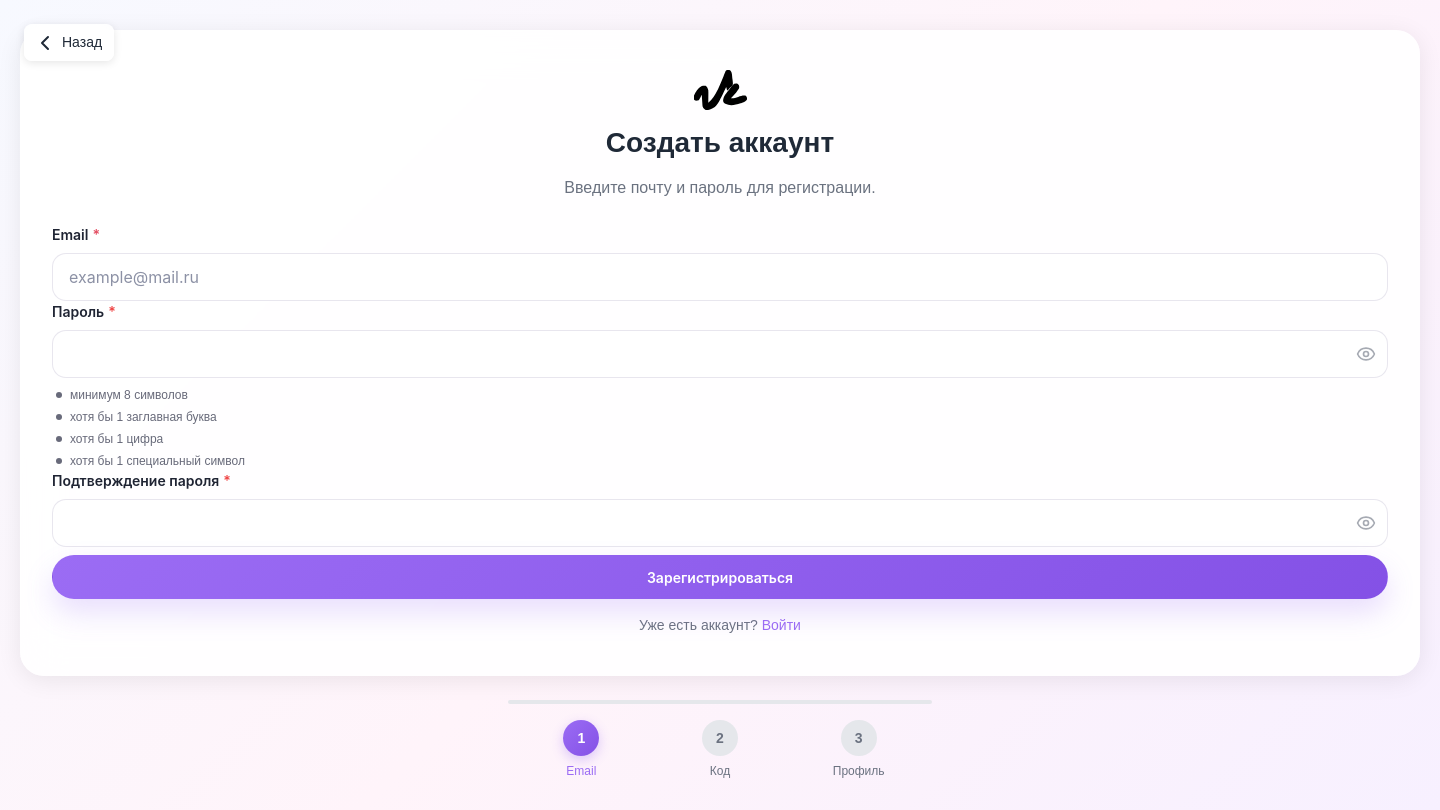
Scenario: RegistrationForm › shows friendly duplicate email error from backend
Type "user@example.com" into the field with placeholder "example@mail.ru" at (720, 277), box [52,253,1388,301]
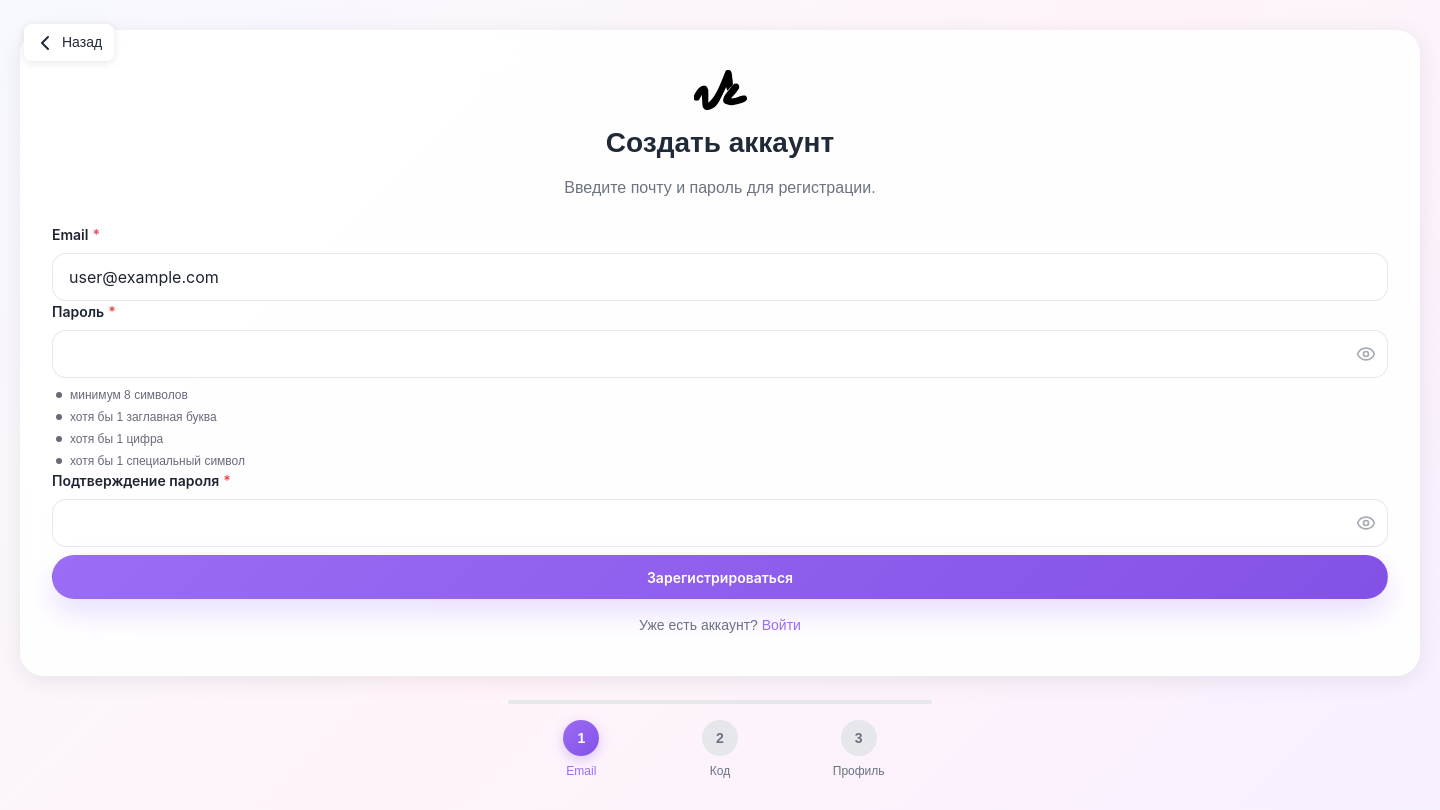
Type "StrongPass1!" into the 1st password field at (720, 354), box [52,330,1388,378]
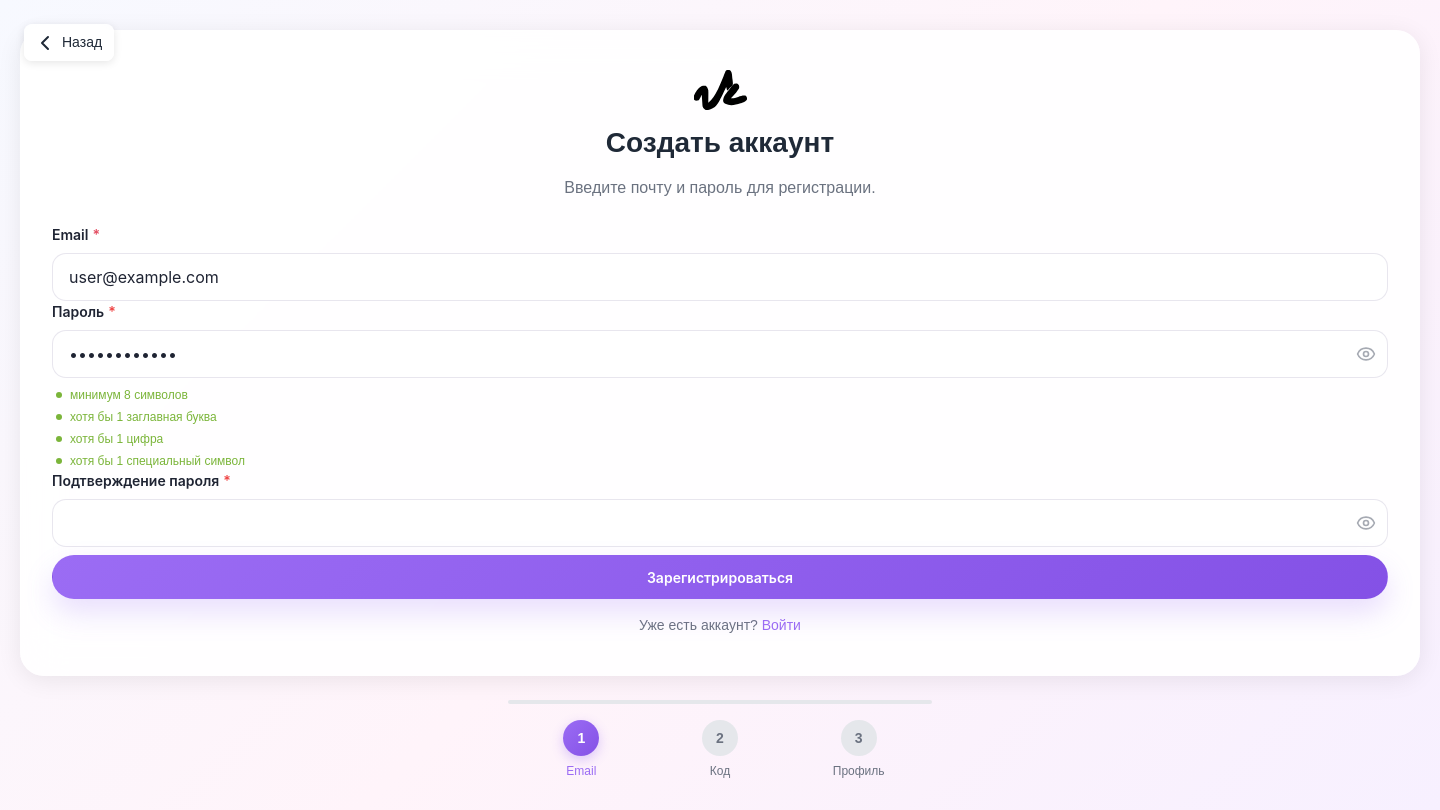
Type "StrongPass1!" into the password field below "Подтверждение пароля" at (720, 523), box [52,499,1388,547]
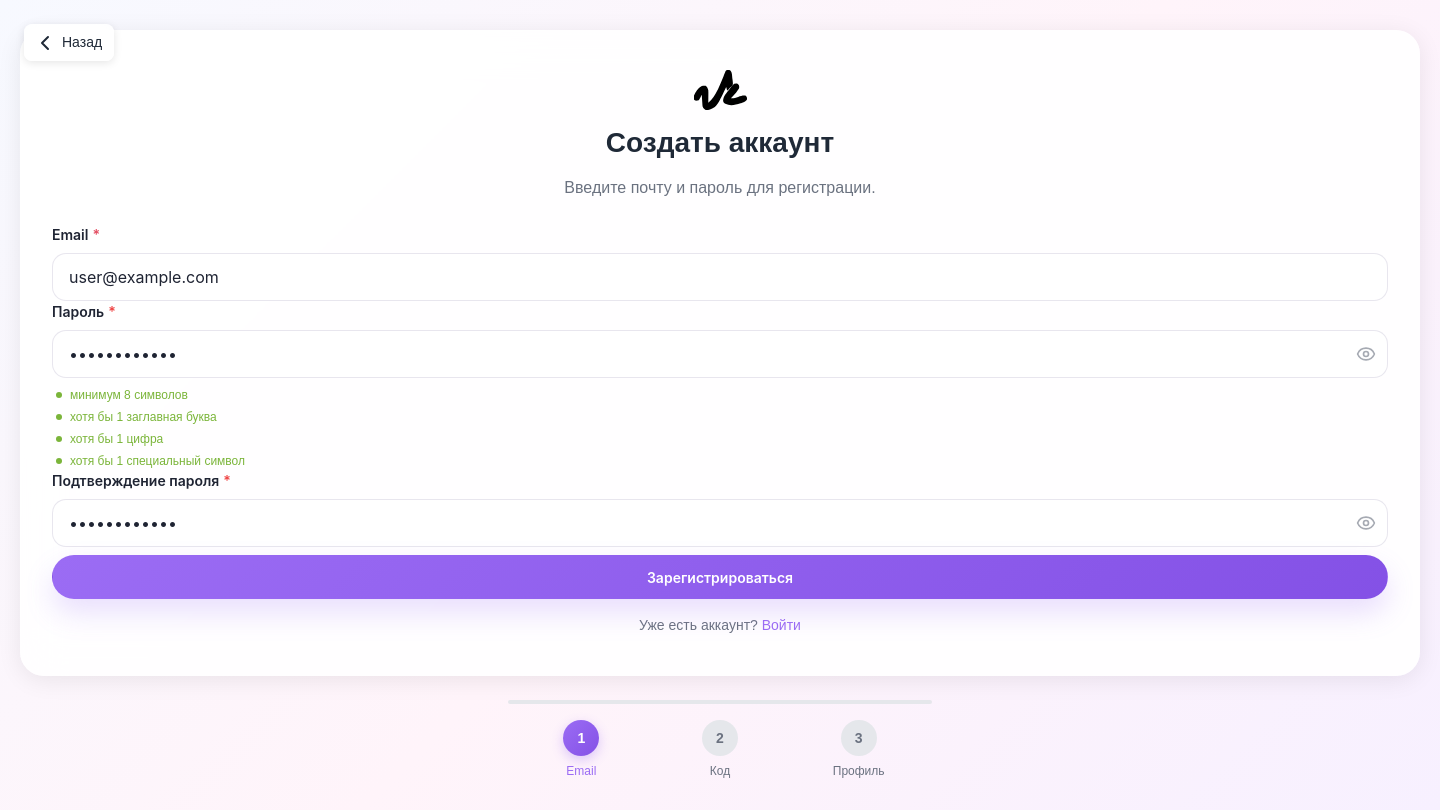
Click the button "Зарегистрироваться" at (720, 577), box [52,555,1388,599]
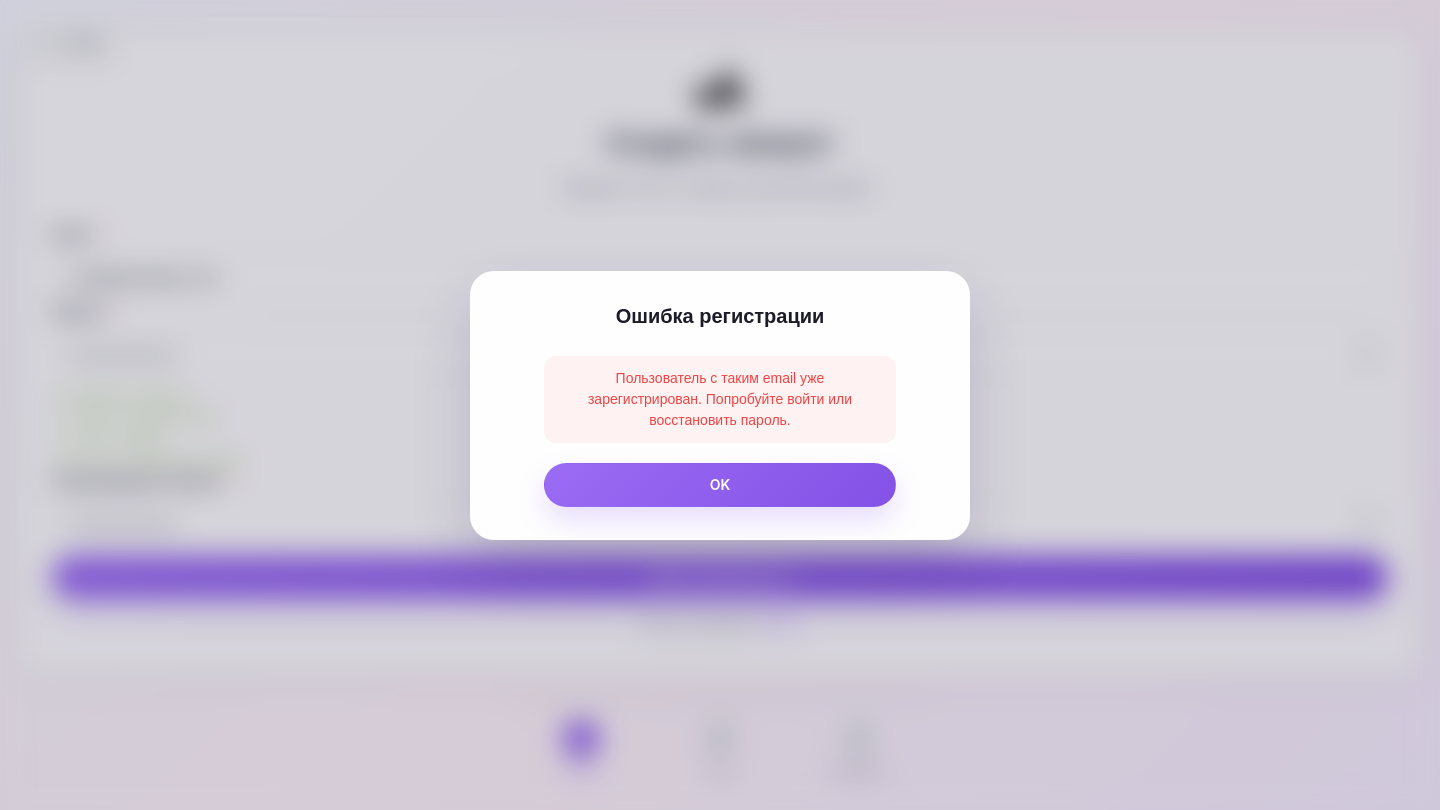
Now the heading "Ошибка регистрации" is shown, box [616,304,824,326]
Now the text "Пользователь с таким email уже зарегистрирован. Попробуйте войти или восстановить пароль." is shown, box [588,370,852,428]
